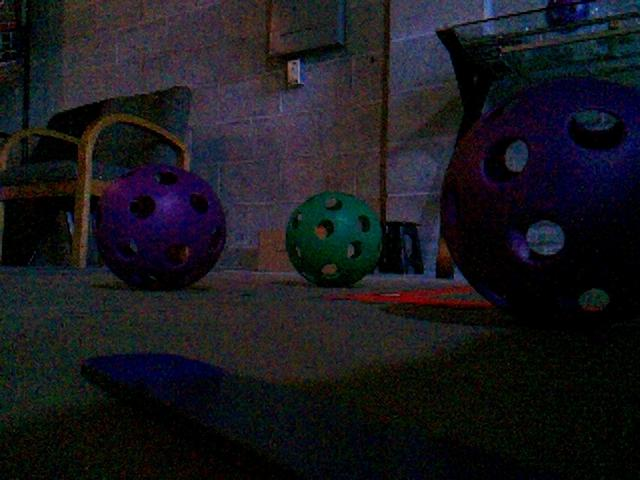Green: (438, 75, 640, 320), (283, 189, 384, 286), (545, 0, 592, 27)
Purple: (92, 164, 226, 288)
